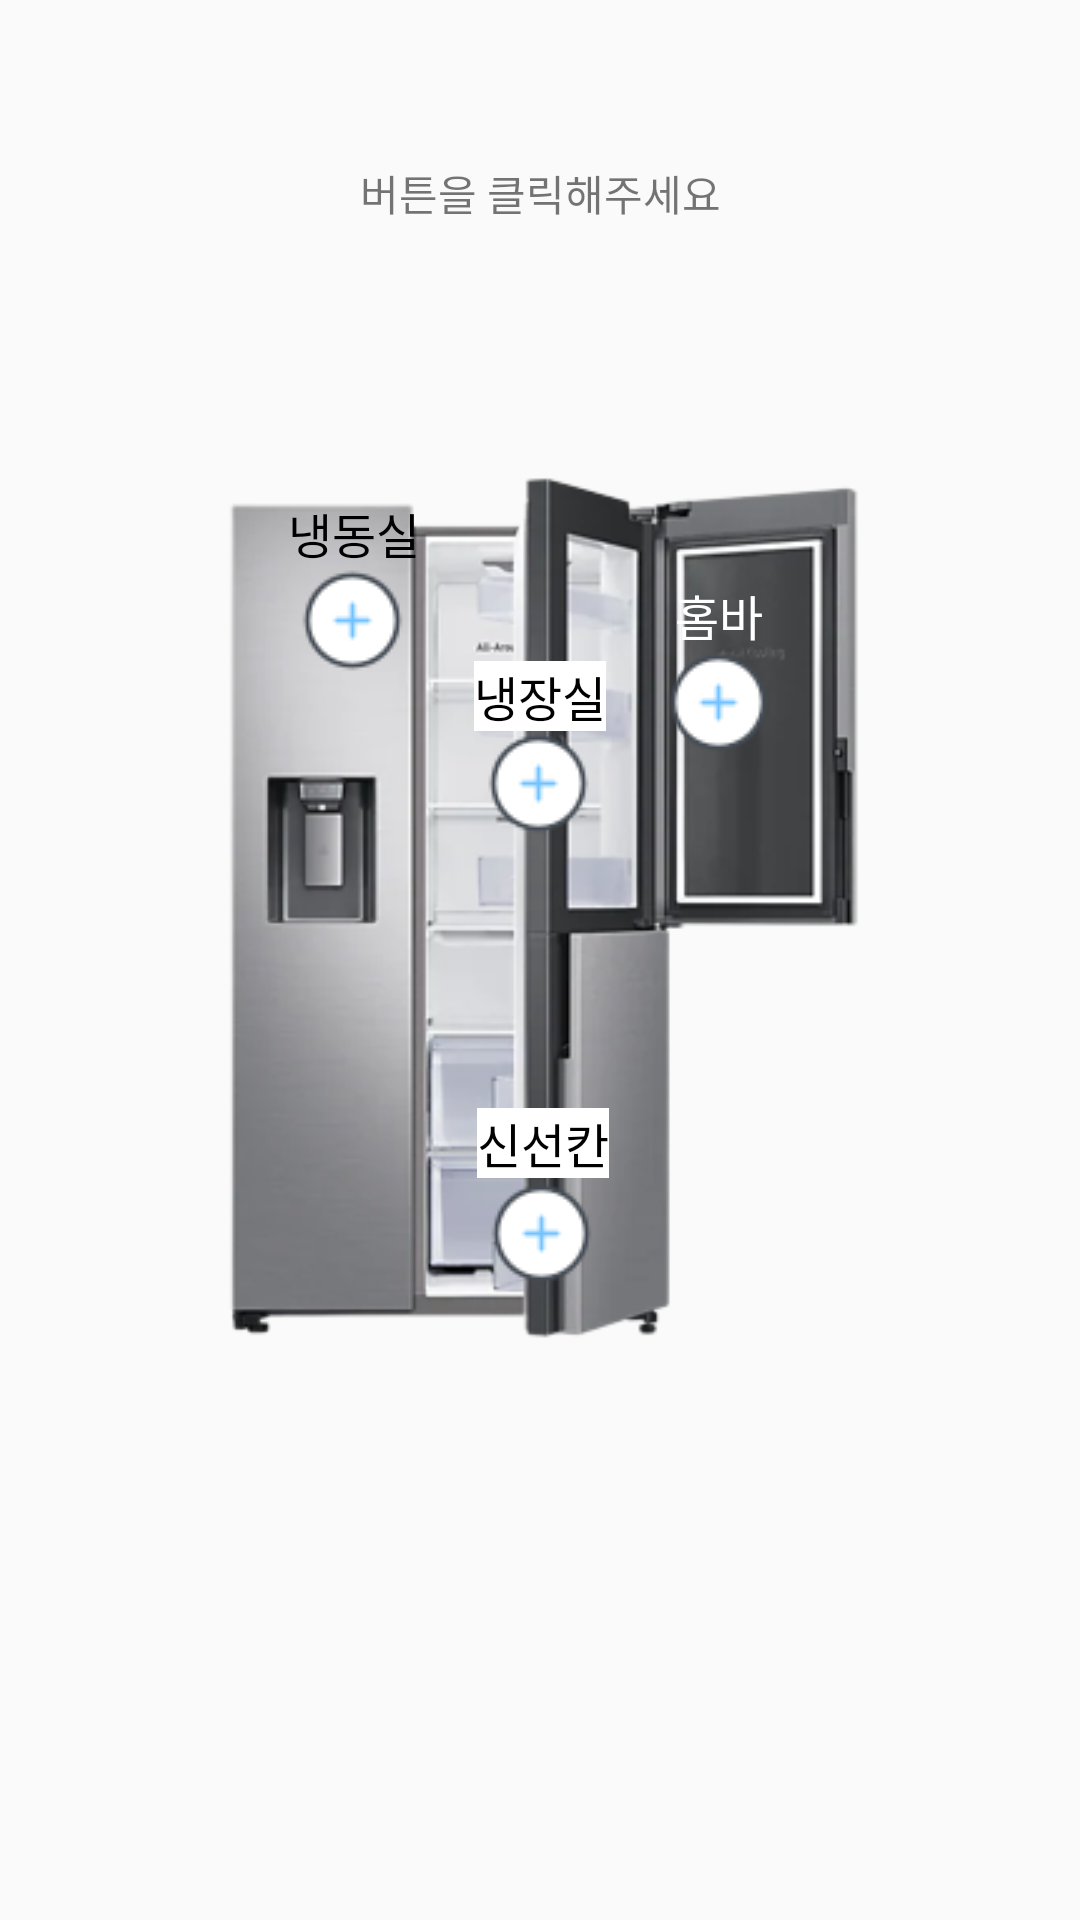

Point at icon controls on the screen. Image size 1080 × 1920, points as (x,y).
plusbutton: (352,620), (716,702), (538,783), (541,1233)
